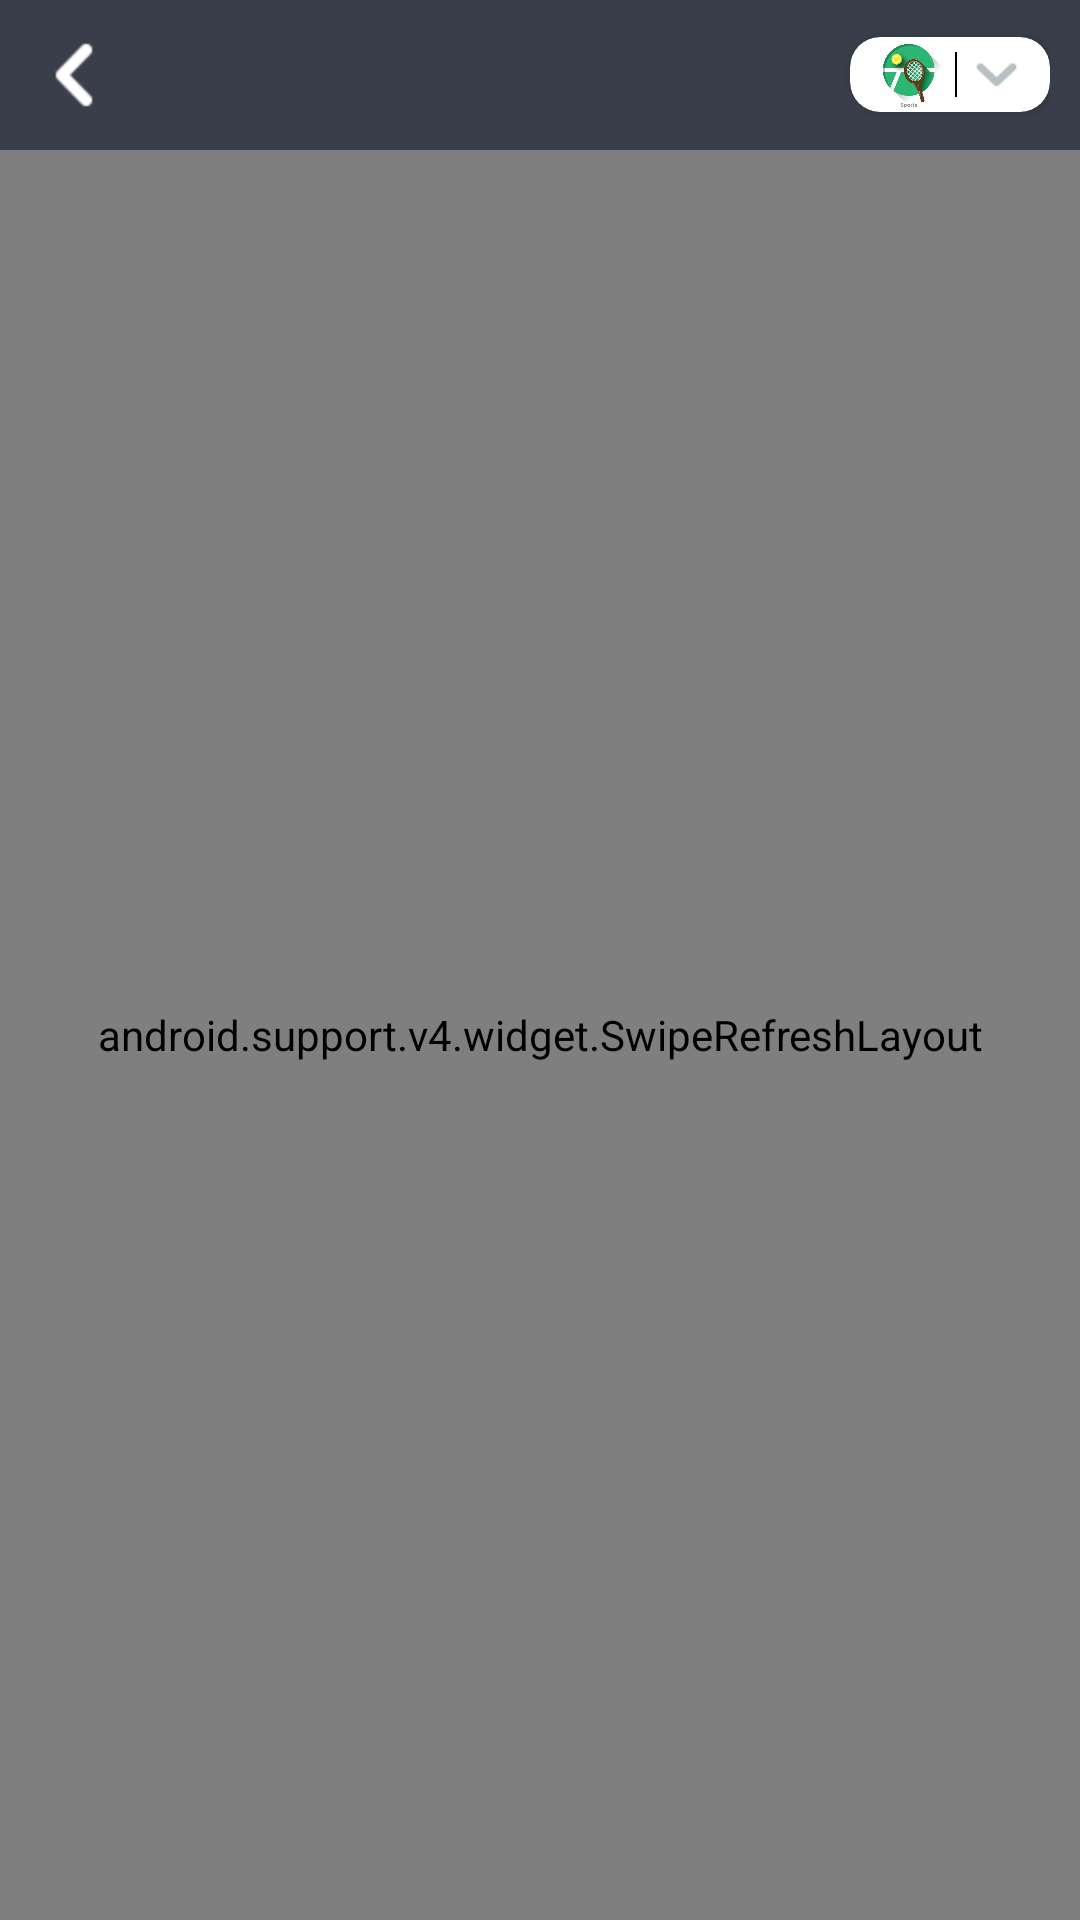

Screen size 1080px×1920px. Icon name, then its box in pixels as (x1, y1, x2, y2):
back: (55, 43, 93, 107)
dropdown: (977, 63, 1017, 86)
